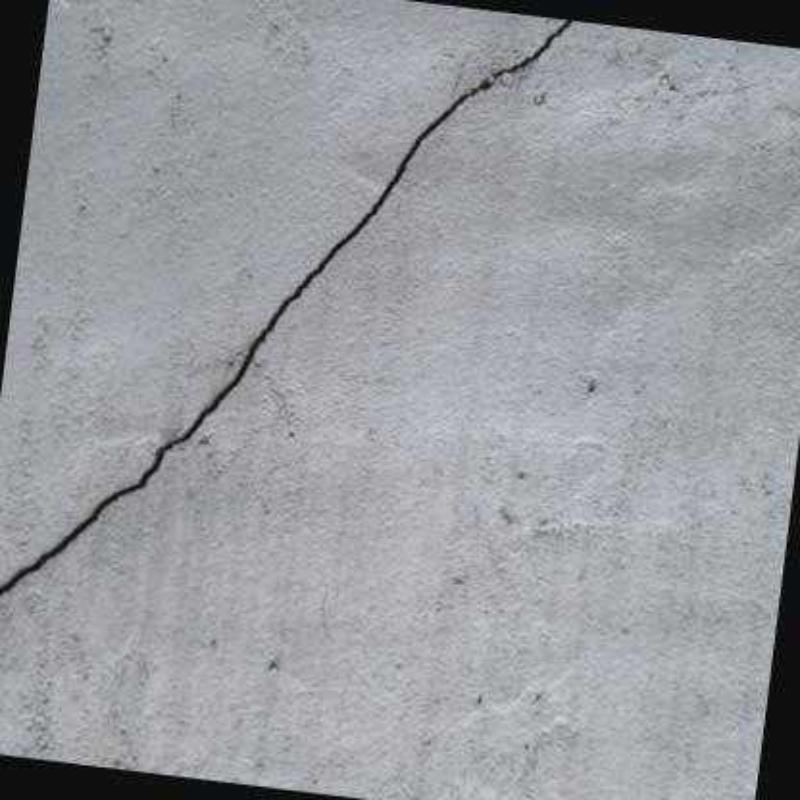pothole: (1, 19, 574, 597)
